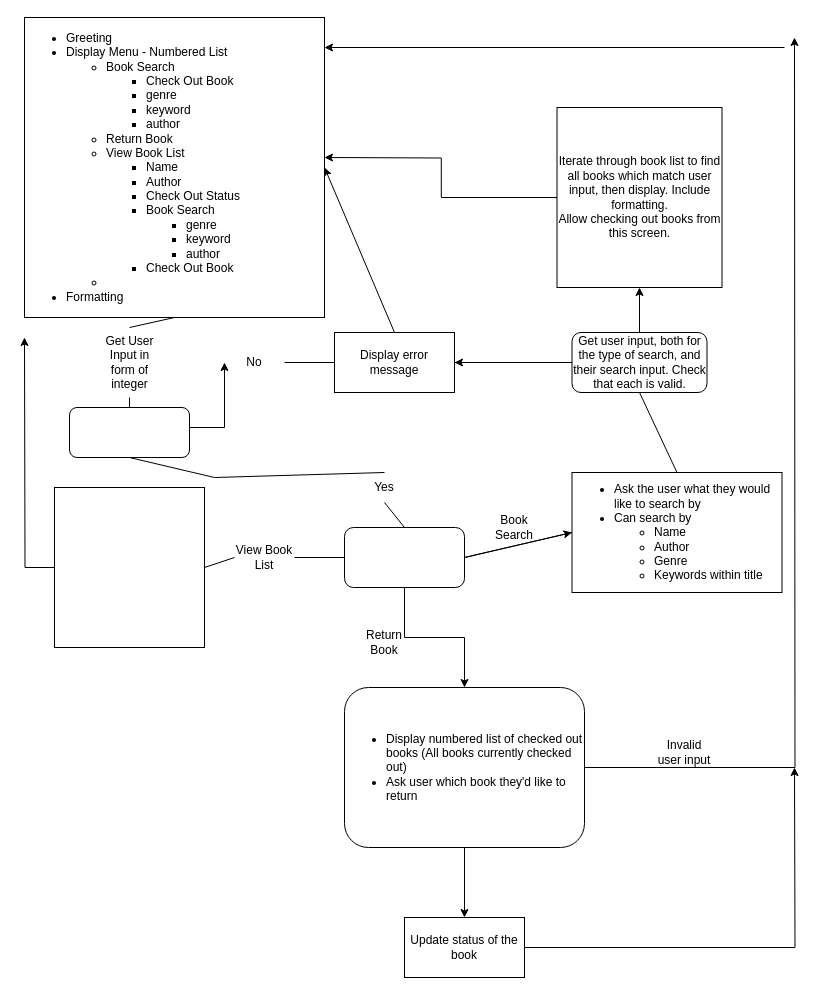
The diagram is 821 pixels wide and 995 high, and some of its shapes have lost their labels. The centre of each missing label's shape, as x and y in pixels:
Is input valid?: point (129, 432)
Numbered list of books. Title Author Formatting: point (129, 567)
What did they choose: point (404, 557)
